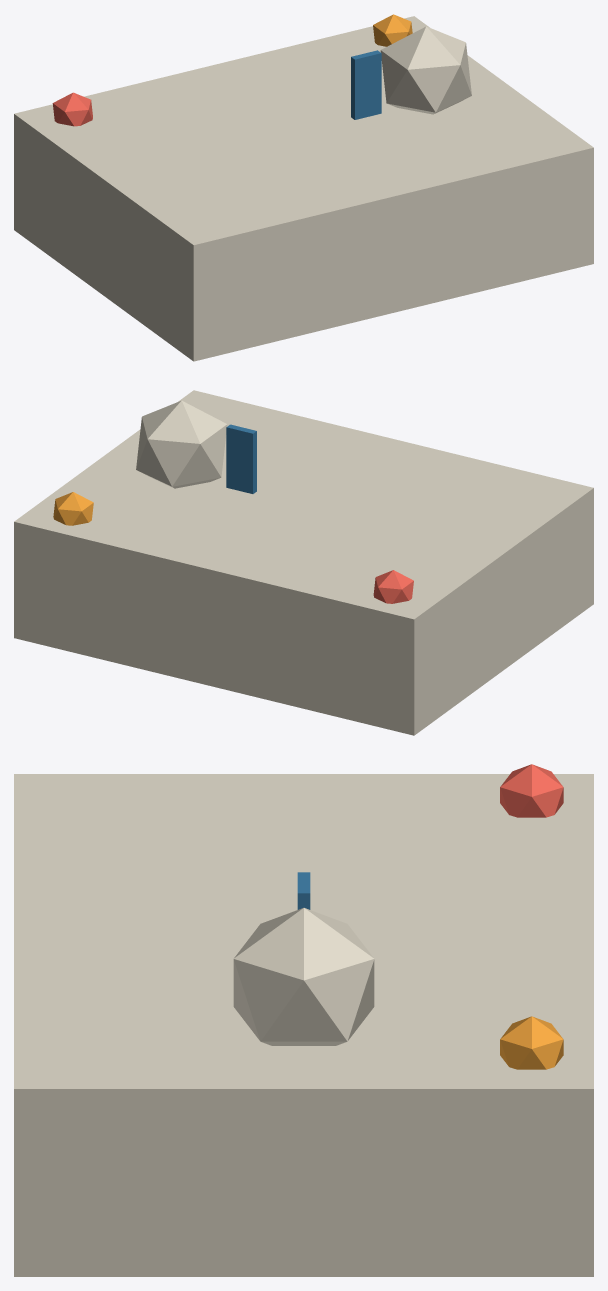
The model's file is prop.fountain-garden.glb.
The picture shows the model from 3 angles, top to bottom: view 1: azimuth 30°, elevation 25°; view 2: azimuth 150°, elevation 25°; view 3: azimuth 270°, elevation 25°; orthographic projection. The views are drawn at different scales.
Visible parts, largest first — view 1: prop.fountain-garden; view 2: prop.fountain-garden; view 3: prop.fountain-garden.
Boxes of the visible parts, x1,y1,x2,y2 form: prop.fountain-garden: (14, 14, 593, 361); prop.fountain-garden: (14, 390, 593, 735); prop.fountain-garden: (14, 764, 593, 1276).
Bounding box in the file's own units: 1.8 × 0.82 × 1.4.
